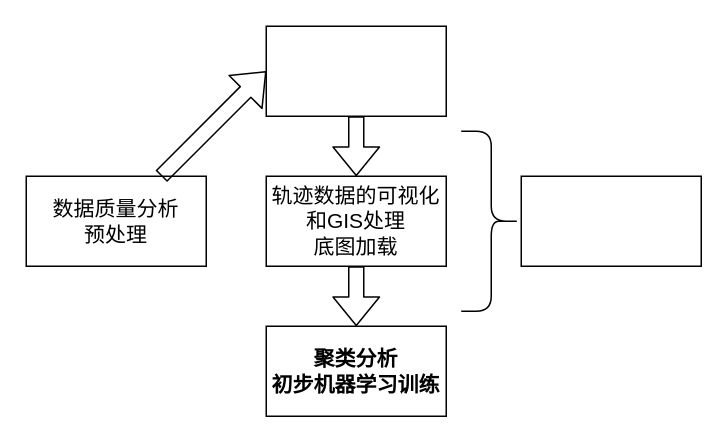
Some shapes in this 728 by 443 pixel diagram are drawn without their labels. The centre of each missing label's shape, as x and y in pixels:
"神经网络训练" goes at point (610, 220).
"轨迹数据栅格化 聚合统计" goes at point (355, 70).
